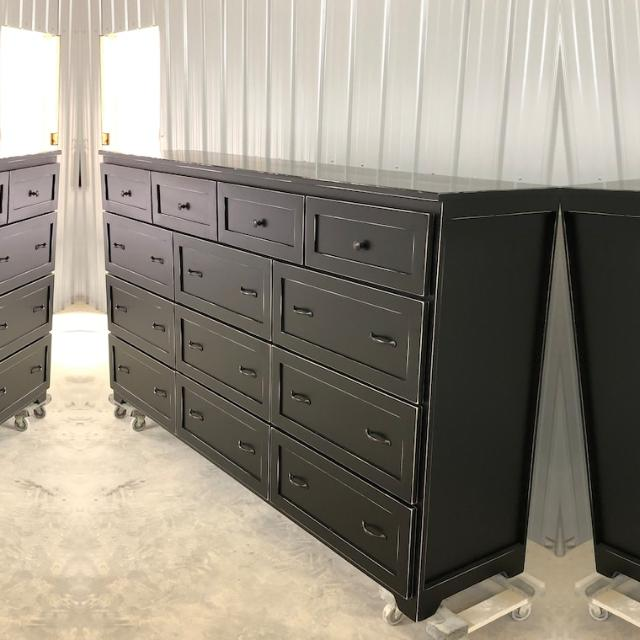dresser: (95, 142, 555, 634)
